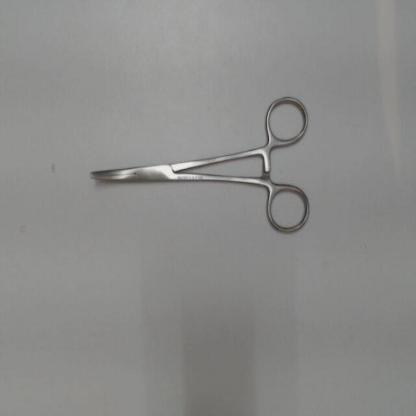Crile Artery Forceps: (81, 89, 317, 246)
